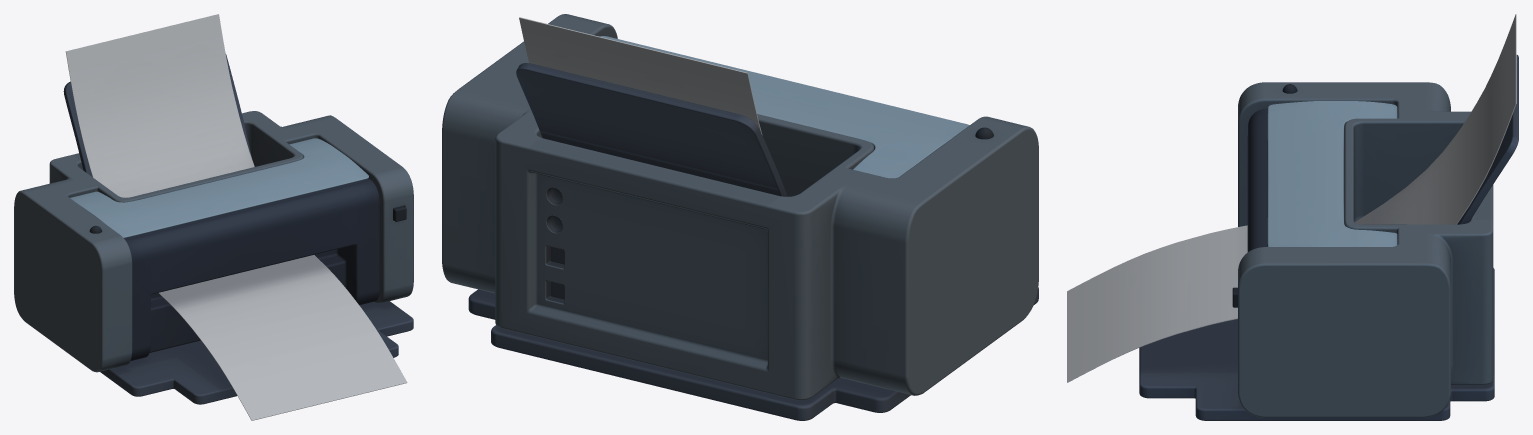
Rendered from printer.gltf.
3 renders of one model, left to right at view 1: azimuth 30°, elevation 25°; view 2: azimuth 150°, elevation 25°; view 3: azimuth 270°, elevation 25°, orthographic. The views are drawn at different scales.
Visible parts, largest first — view 1: node_id30; view 2: node_id30; view 3: node_id30.
Part boxes in pixels (bbox=[...]): node_id30: bbox=[14, 14, 413, 420]; node_id30: bbox=[442, 14, 1038, 420]; node_id30: bbox=[1067, 14, 1518, 420].
Size of the model in its own units: 0.512 by 0.3662 by 0.5346.
1 material, 1 textured.
